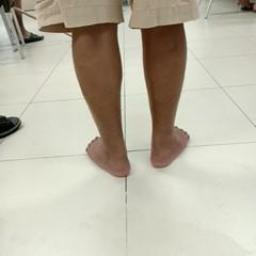Back View -Both Feet-: (67, 100, 204, 187)
